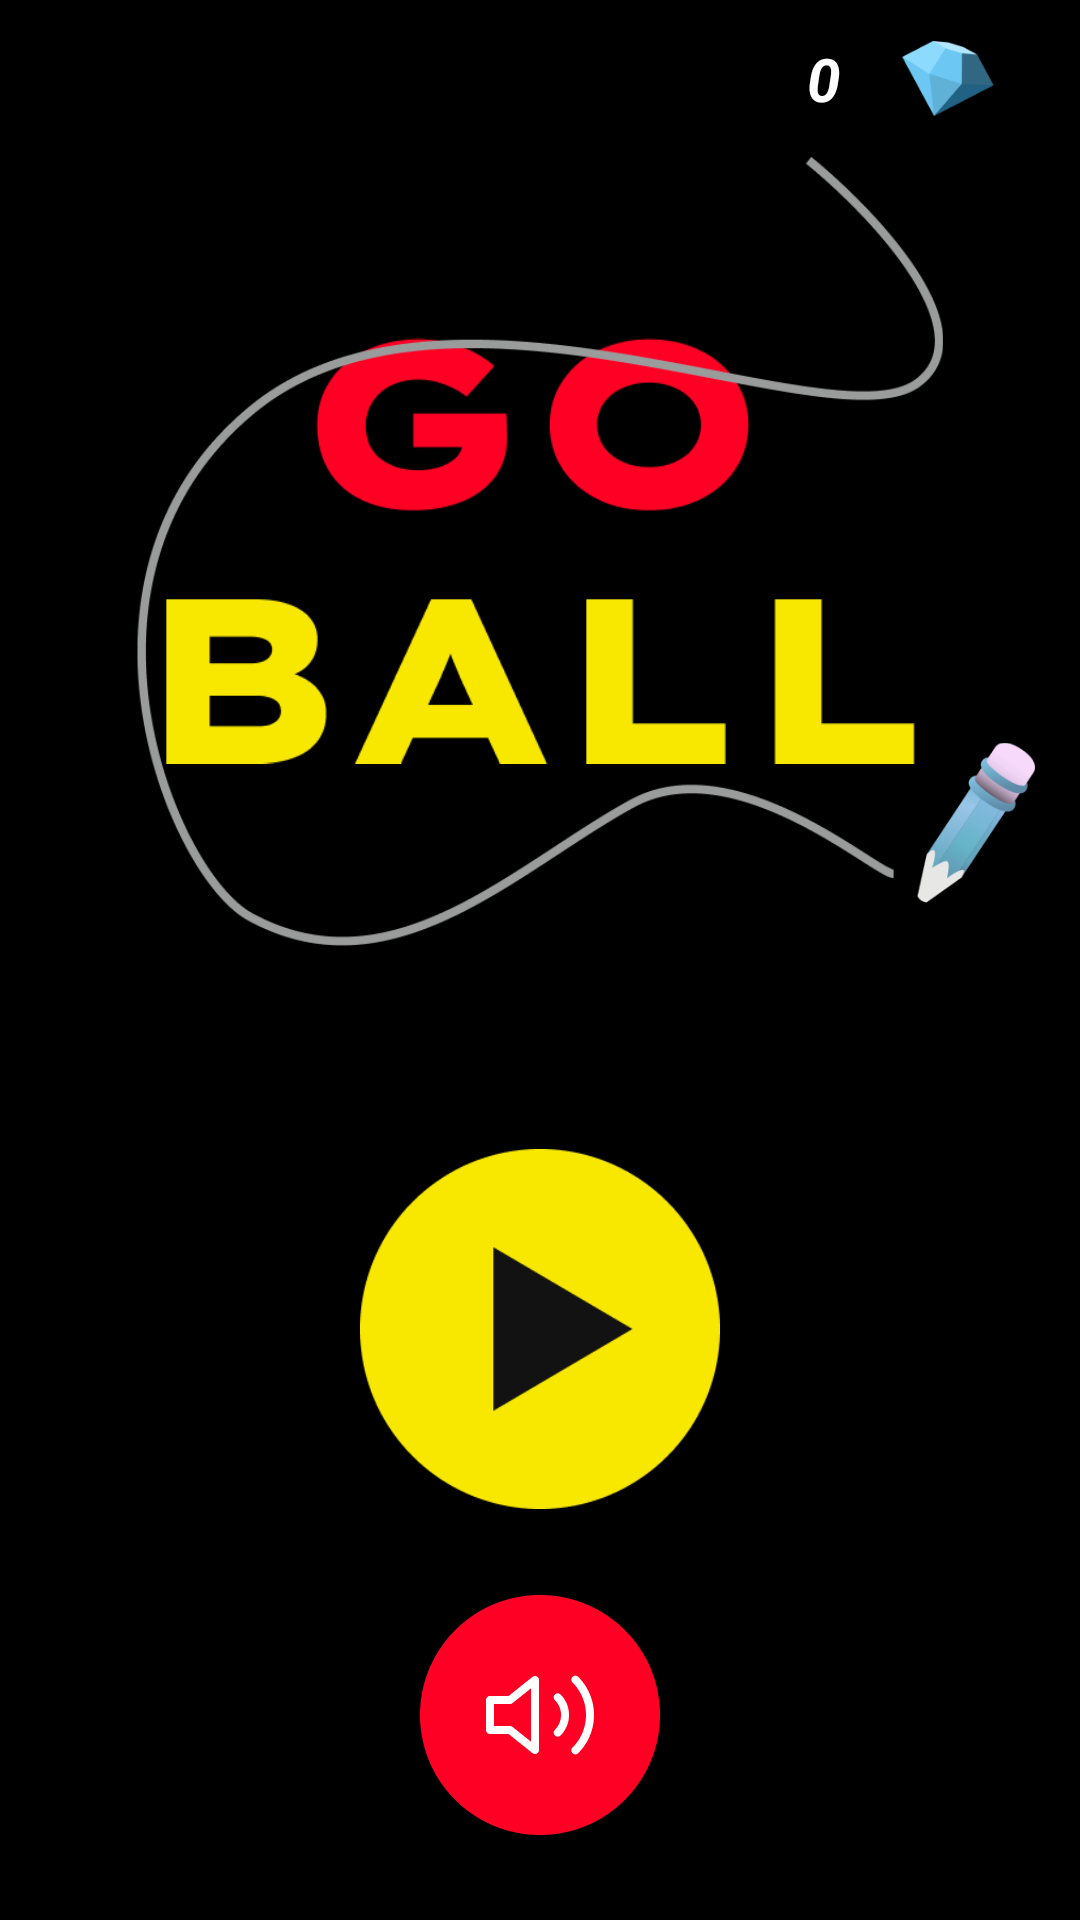

Named icons in this screenshot (1080 × 1920) and their centers, [x,y]:
diamond: [948,78]
play: [540,1329]
